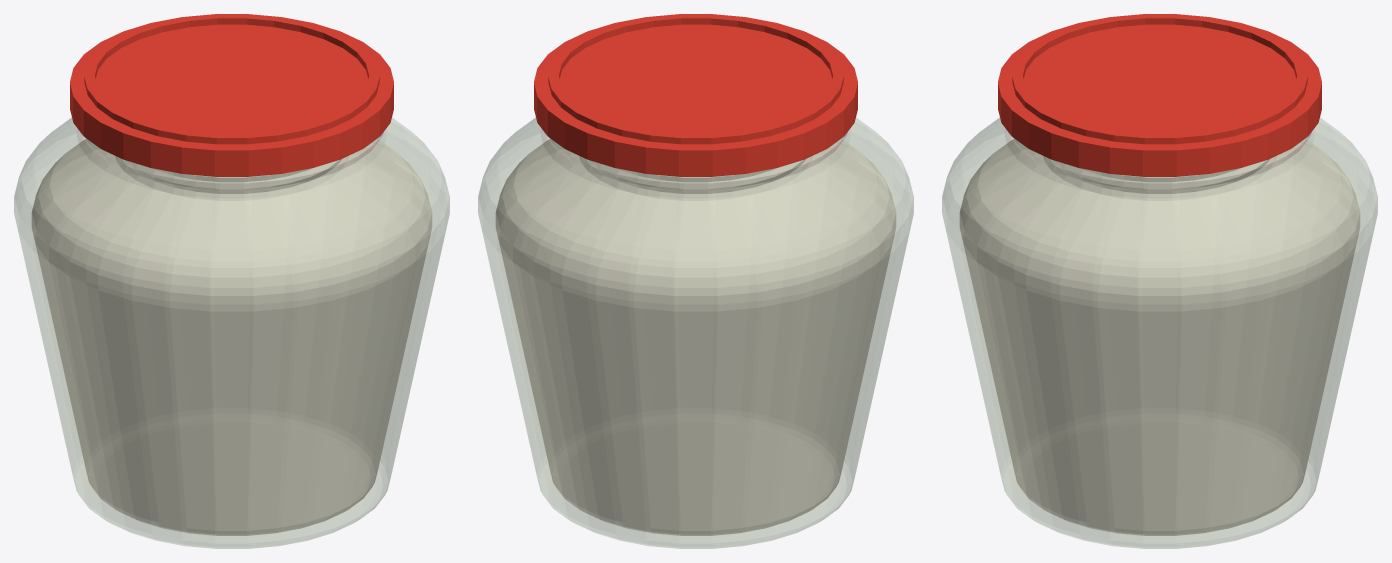
Rendered from sour cream.fbx.
The picture shows the model from 3 angles, left to right: view 1: azimuth 30°, elevation 25°; view 2: azimuth 150°, elevation 25°; view 3: azimuth 270°, elevation 25°; orthographic projection.
Visible parts, largest first — view 1: Cylinder.003, Cylinder.005, Cylinder.004; view 2: Cylinder.003, Cylinder.005, Cylinder.004; view 3: Cylinder.003, Cylinder.005, Cylinder.004.
Part boxes in pixels (left/top/right/bottom): Cylinder.003: left=14, top=117, right=449, bottom=548; Cylinder.005: left=31, top=138, right=432, bottom=535; Cylinder.004: left=70, top=14, right=393, bottom=176; Cylinder.003: left=478, top=117, right=913, bottom=548; Cylinder.005: left=495, top=138, right=896, bottom=535; Cylinder.004: left=534, top=14, right=857, bottom=176; Cylinder.003: left=942, top=117, right=1377, bottom=548; Cylinder.005: left=959, top=138, right=1360, bottom=535; Cylinder.004: left=998, top=14, right=1321, bottom=176.
Bounding box in the file's own units: 63.51 × 66.36 × 63.86.
